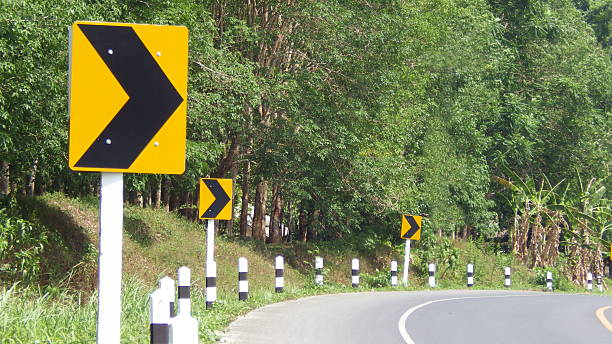right turn: (71, 21, 184, 173), (201, 179, 231, 218), (401, 215, 420, 240)
